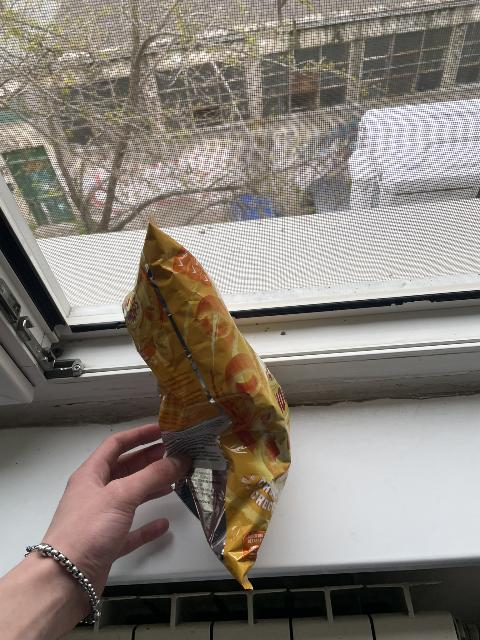Chio Hula Hoops Cheese 70g: (124, 224, 294, 577)
